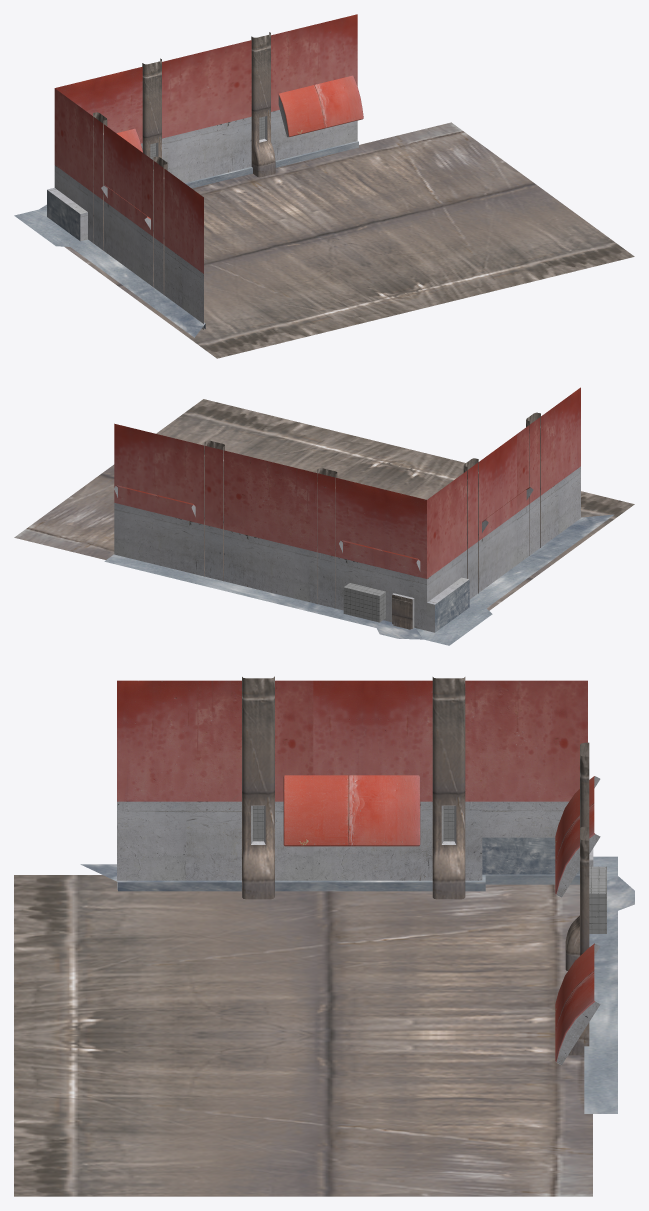
The model's file is factory8.fbx.
The picture shows the model from 3 angles, top to bottom: view 1: azimuth 30°, elevation 25°; view 2: azimuth 150°, elevation 25°; view 3: azimuth 270°, elevation 25°; orthographic projection. The views are drawn at different scales.
Visible parts, largest first — view 1: walls, wallstrim, overhang3, pillar2, pillar1, pillar4; view 2: walls, wallstrim, pillar2, pillar1; view 3: walls, wallstrim, overhang4, pillar3, pillar4, overhang3, overhang1, pillar2, pillar1.
Boxes of the visible parts, bbox=[...] form: walls: bbox=[47, 14, 634, 358]; wallstrim: bbox=[14, 141, 358, 337]; overhang3: bbox=[278, 75, 363, 137]; pillar2: bbox=[251, 32, 275, 177]; pillar1: bbox=[142, 58, 161, 159]; pillar4: bbox=[153, 156, 167, 294]; walls: bbox=[14, 387, 634, 632]; wallstrim: bbox=[104, 514, 613, 645]; pillar2: bbox=[204, 440, 224, 581]; pillar1: bbox=[317, 468, 337, 608]; walls: bbox=[14, 680, 606, 1196]; wallstrim: bbox=[80, 856, 634, 1113]; overhang4: bbox=[283, 775, 420, 846]; pillar3: bbox=[432, 677, 465, 899]; pillar4: bbox=[242, 676, 274, 899]; overhang3: bbox=[555, 943, 600, 1064]; overhang1: bbox=[555, 776, 600, 897]; pillar2: bbox=[568, 826, 589, 1055]; pillar1: bbox=[565, 742, 589, 970].
Bounding box in the file's own units: 228 × 70.09 × 181.
Materials: 1 (1 with a texture image).
